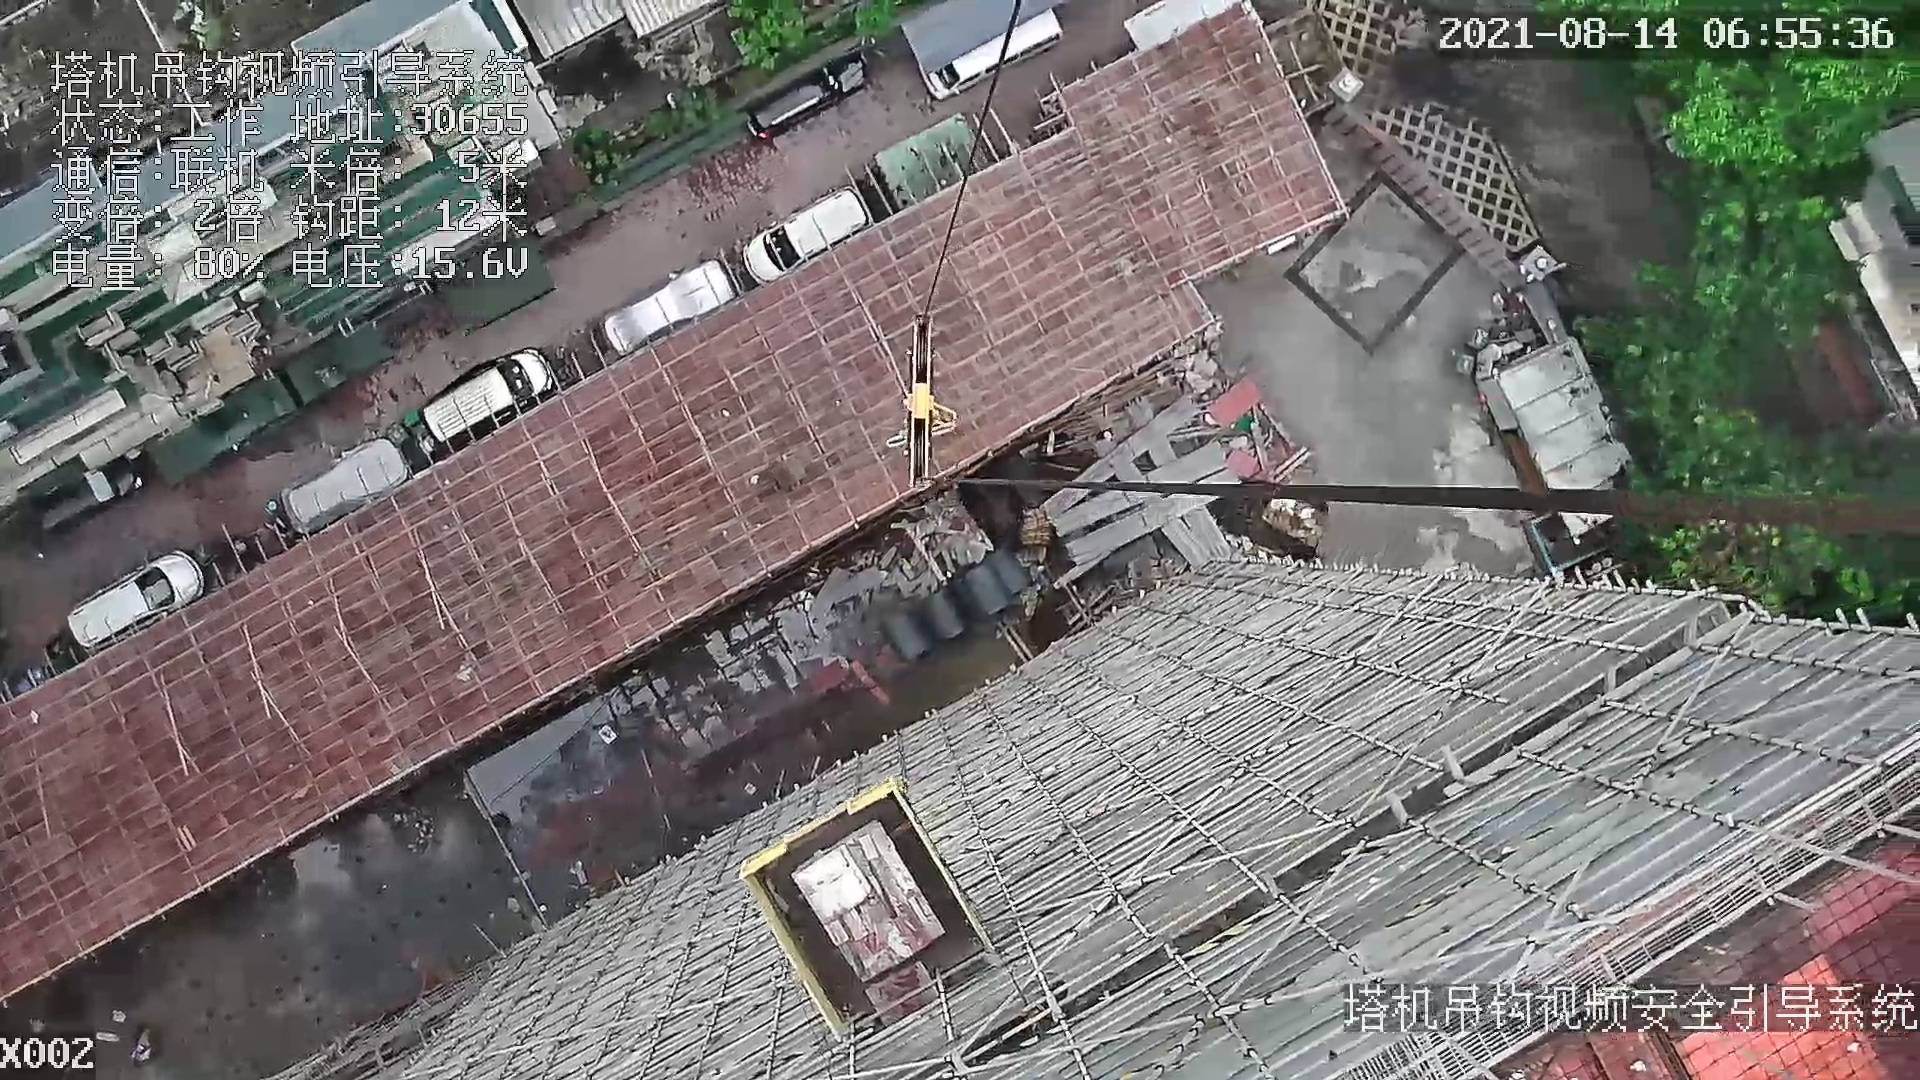board: (790, 822, 948, 982)
hook: (891, 310, 959, 492)
rebar: (1040, 396, 1200, 518), (1067, 469, 1240, 564), (1054, 443, 1228, 535), (1184, 506, 1229, 562), (1162, 520, 1209, 568)
